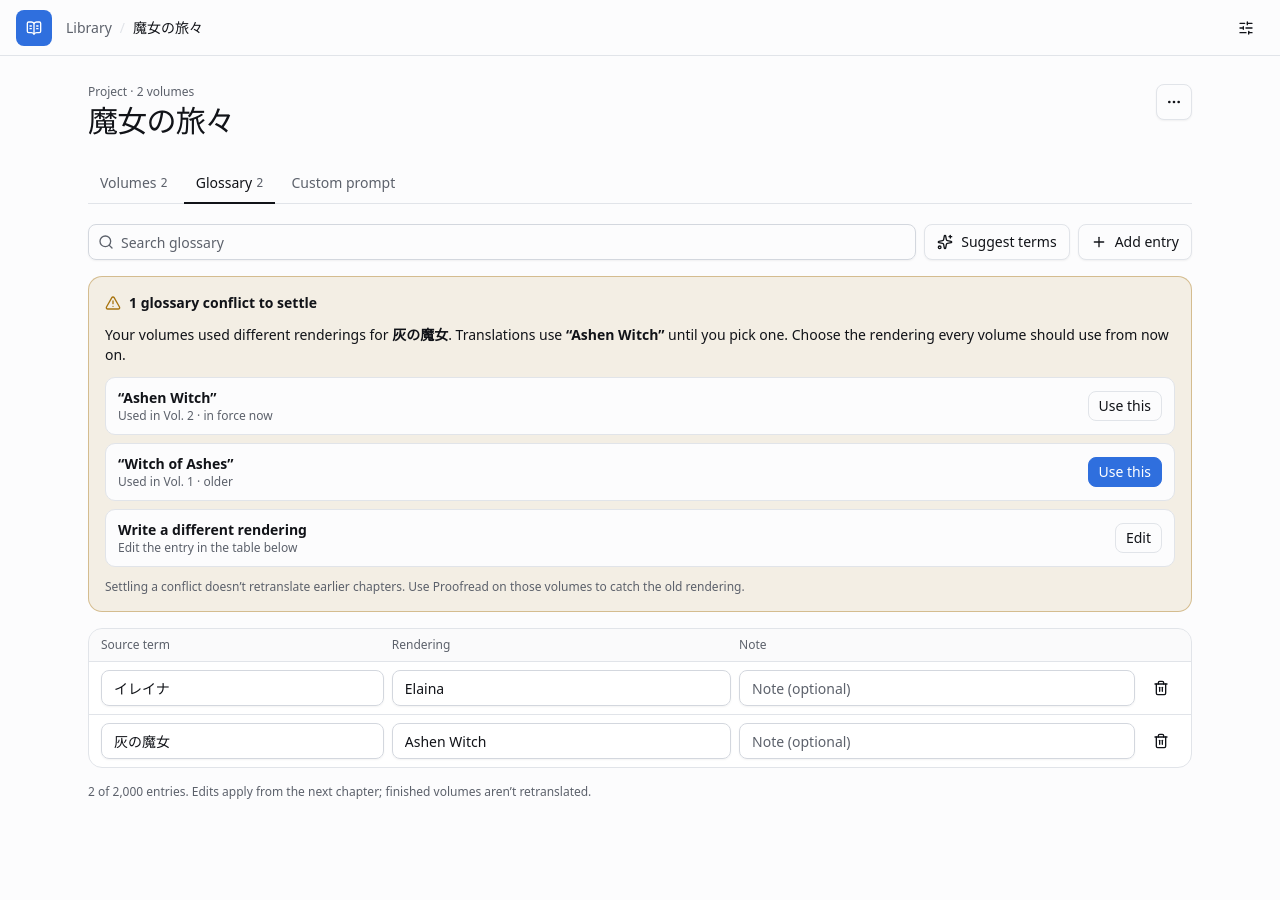
Test: glossary conflicts › settling a conflict updates the entry and only takes effect on Save glossary
The width and height of the screenshot is (1280, 900).
Expected: the element "Unsaved glossary changes" is not shown
Click the button "“Witch of Ashes” Used in Vol. 1 · older Use this".
click(176, 464)  # box [105,443,1175,501]
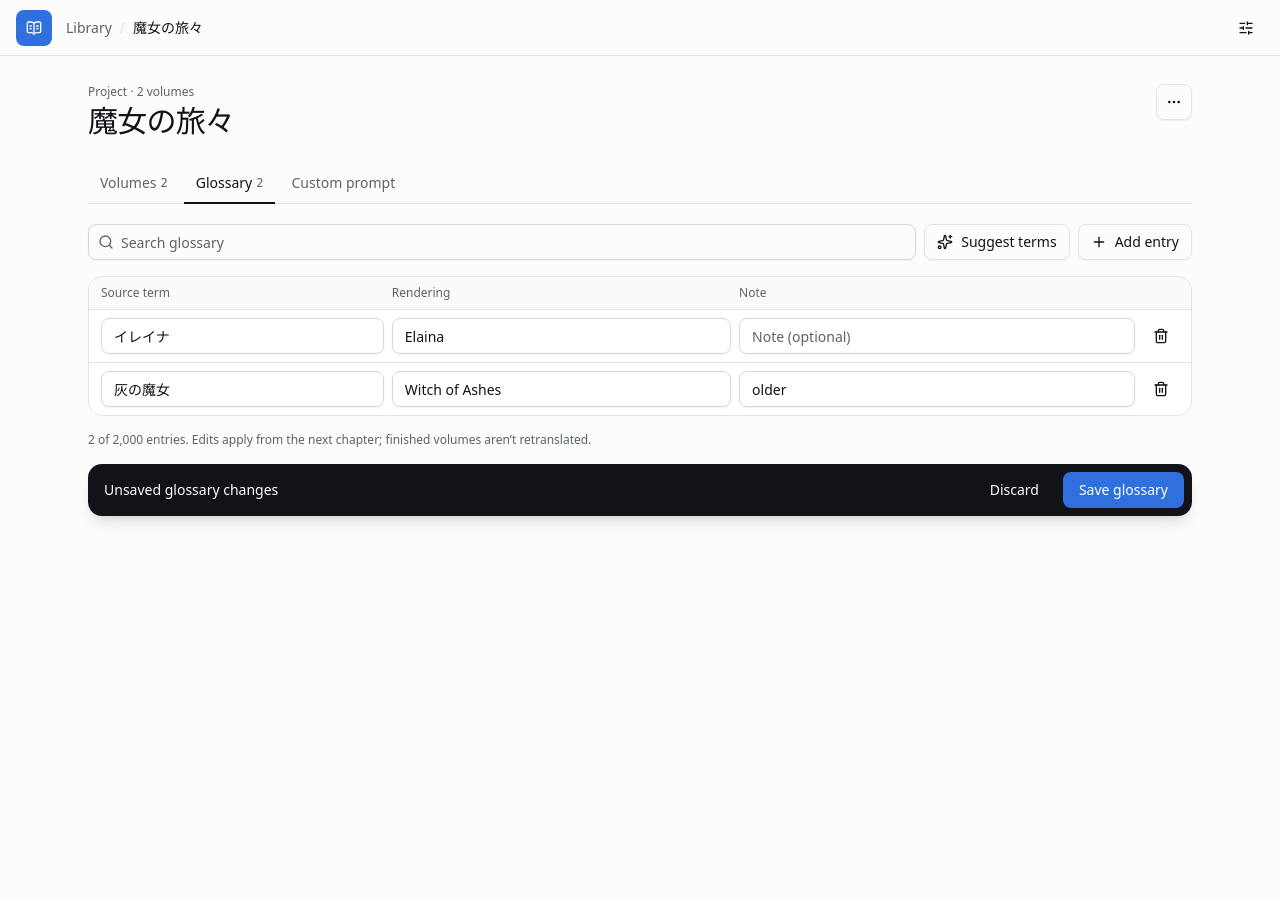
Expected: the field showing "older" is shown, [739,371,1135,407]
Result: the heading "conflict to settle" is gone
Result: the 2nd field showing "Witch of Ashes" is shown at [392,371,731,407]
Click the button "Save glossary".
click(1123, 490)  # box [1063,472,1184,508]
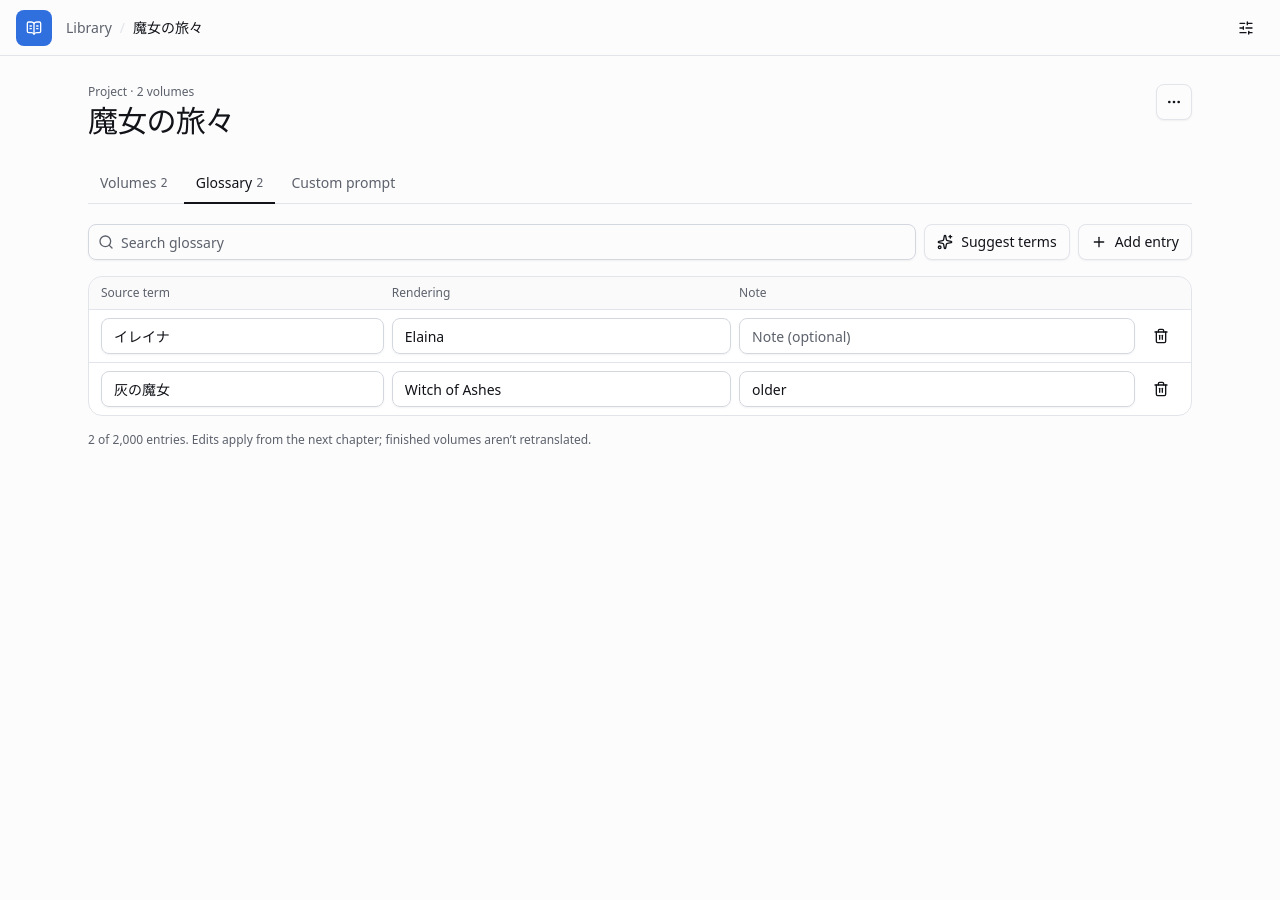
Result: the text "Unsaved glossary changes" is gone
